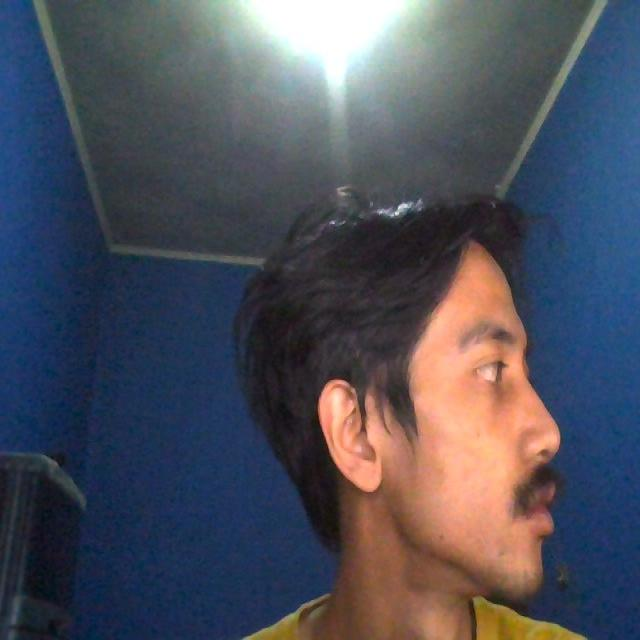melihat kekiri: (250, 192, 578, 618)
